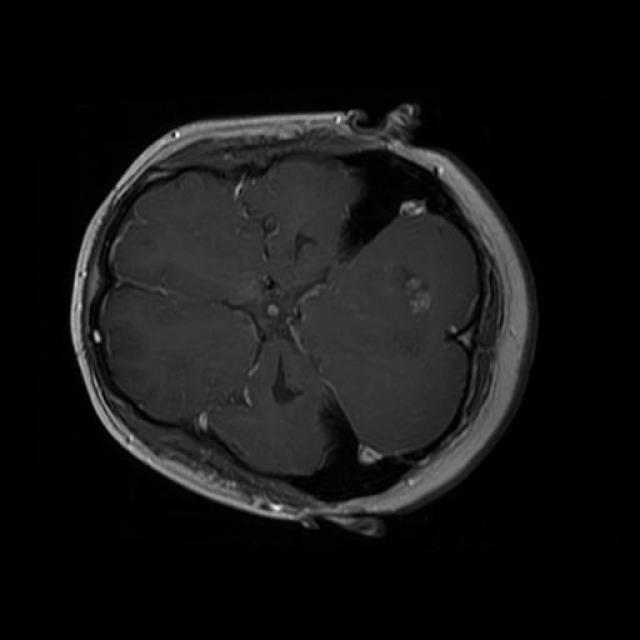Glioma: (396, 269, 431, 313)
